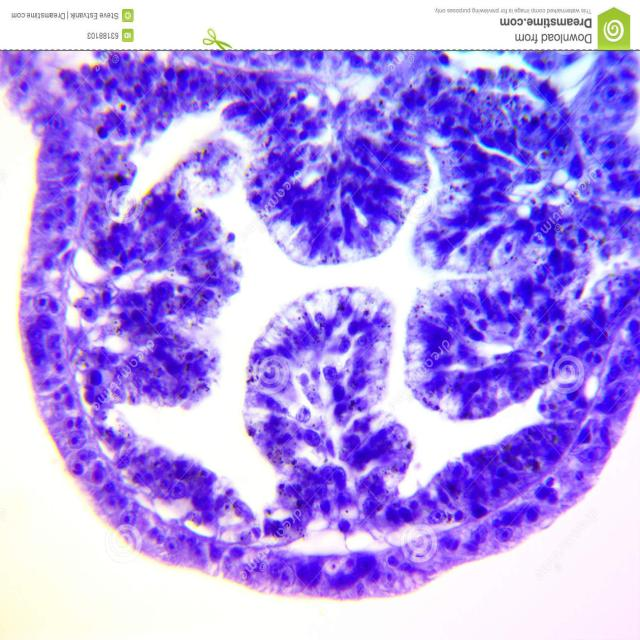Amoeba: (3, 50, 639, 602)
